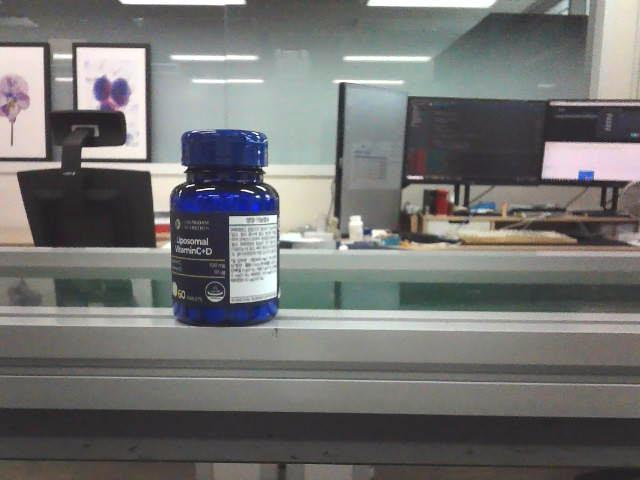labeled: (167, 124, 283, 333)
